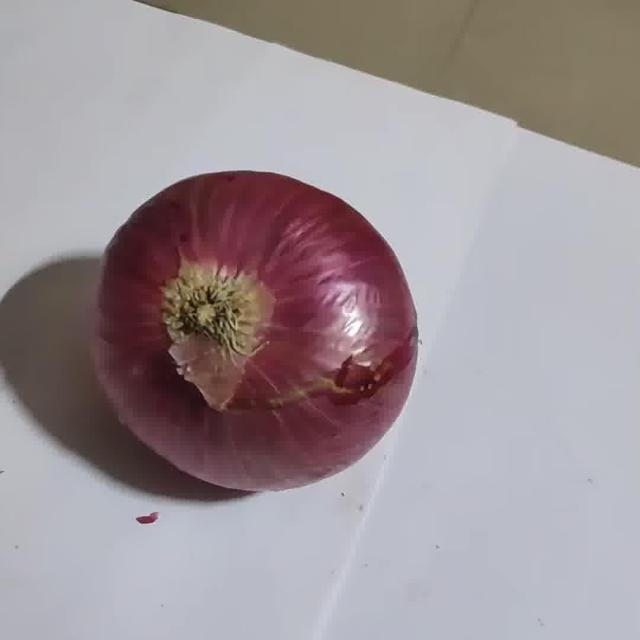Onion: (97, 171, 418, 492)
